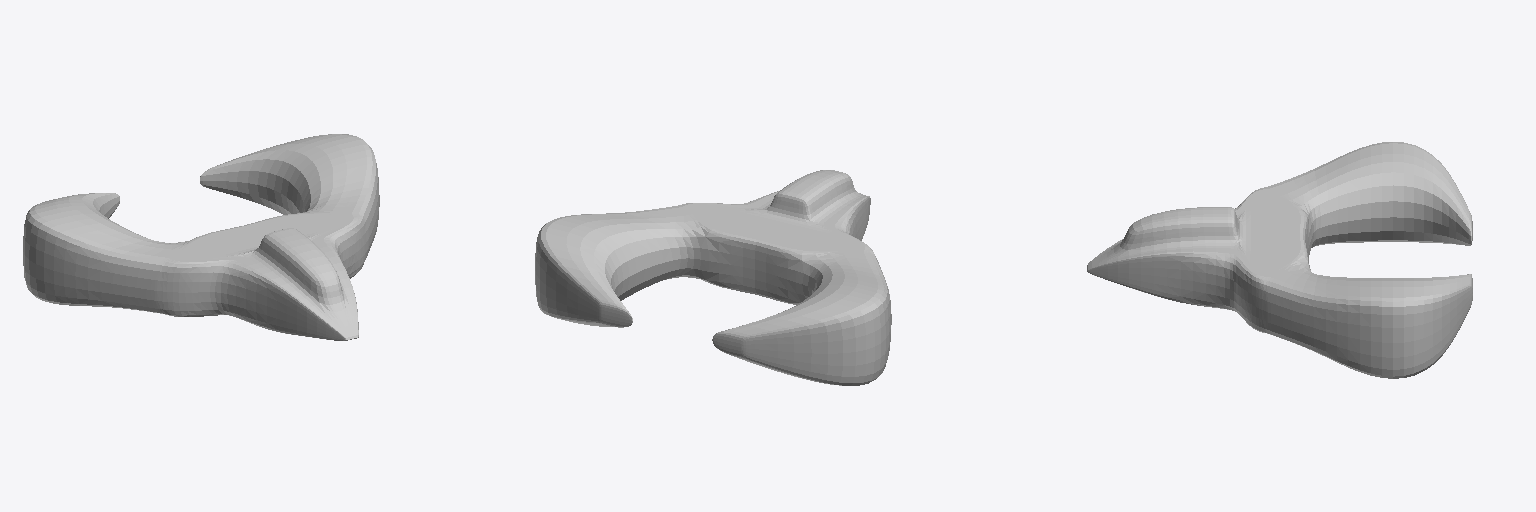
The model's file is ship.obj.
3 renders of one model, left to right at view 1: azimuth 30°, elevation 25°; view 2: azimuth 150°, elevation 25°; view 3: azimuth 270°, elevation 25°, orthographic.
Visible parts, largest first — view 1: Cube_Cube.001; view 2: Cube_Cube.001; view 3: Cube_Cube.001.
Boxes of the visible parts, <box> form: Cube_Cube.001: <box>23,134,379,340</box>; Cube_Cube.001: <box>535,170,891,385</box>; Cube_Cube.001: <box>1087,142,1472,378</box>.
Size of the model in its own units: 8.95 by 2.21 by 8.8.